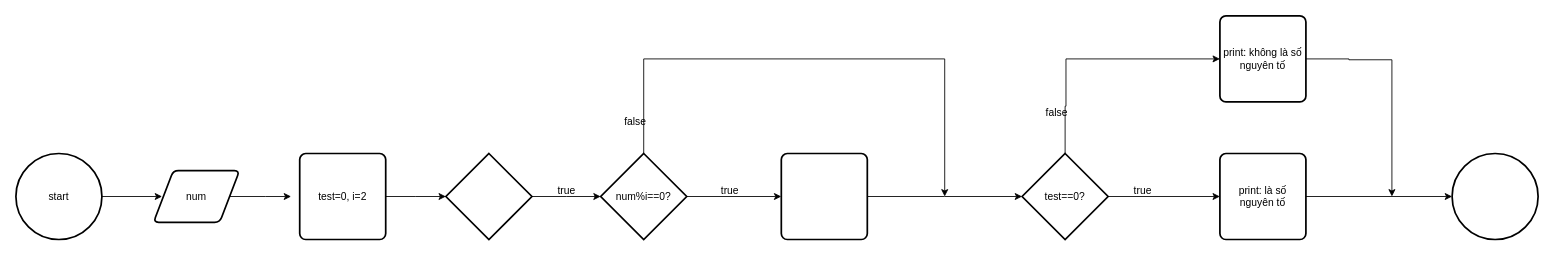
This 1553x255 diagram has some shape labels left out. Each missing label, with the box of its shape:
end: (1451, 152, 1539, 240)
i<=sqrt(num)?: (445, 152, 532, 240)
test=test+1: (780, 152, 868, 240)
